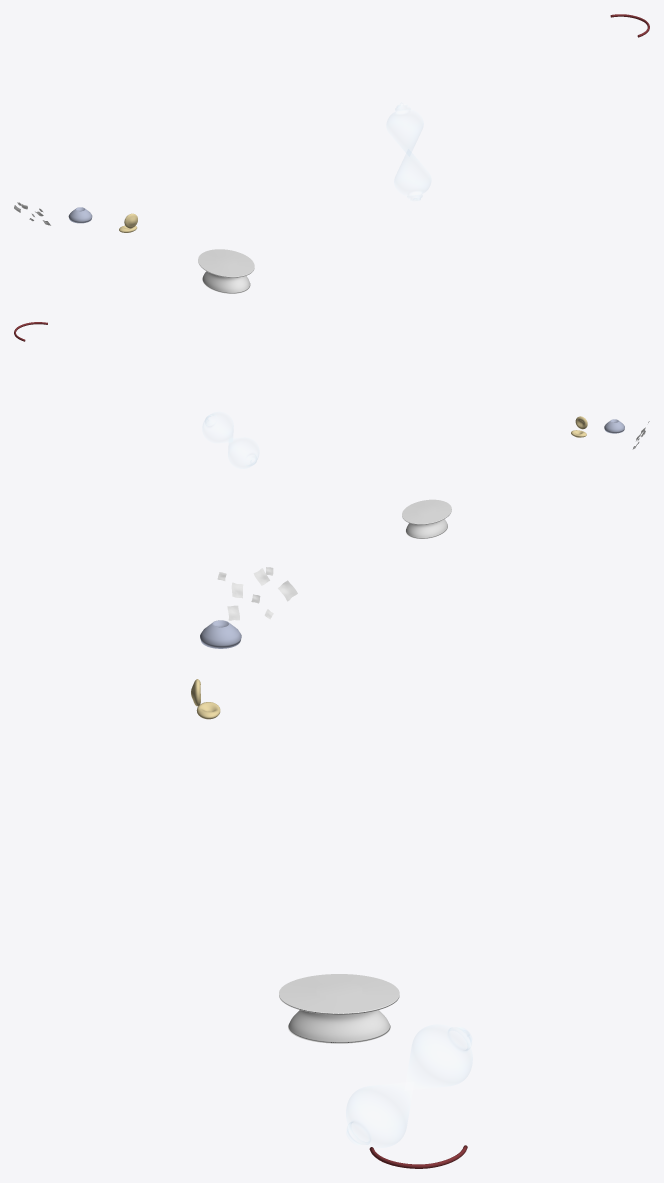
Rendered from paper.fbx.
3 renders of one model, top to bottom at view 1: azimuth 30°, elevation 25°; view 2: azimuth 150°, elevation 25°; view 3: azimuth 270°, elevation 25°, orthographic. The views are drawn at different scales.
Visible parts, largest first — view 1: 圓錐體.006, 圓柱體; view 2: 圓錐體.006, 圓柱體; view 3: 圓錐體.006, 圓柱體, 圓柱體.075.
Part boxes in pixels (<box>): 圓錐體.006: <box>387,103,430,200</box>; 圓柱體: <box>198,249,254,293</box>; 圓錐體.006: <box>203,412,258,468</box>; 圓柱體: <box>402,499,451,538</box>; 圓錐體.006: <box>346,1025,472,1147</box>; 圓柱體: <box>279,974,399,1043</box>; 圓柱體.075: <box>200,620,241,648</box>.
Bounding box in the file's own units: 3195 × 689 × 660.
